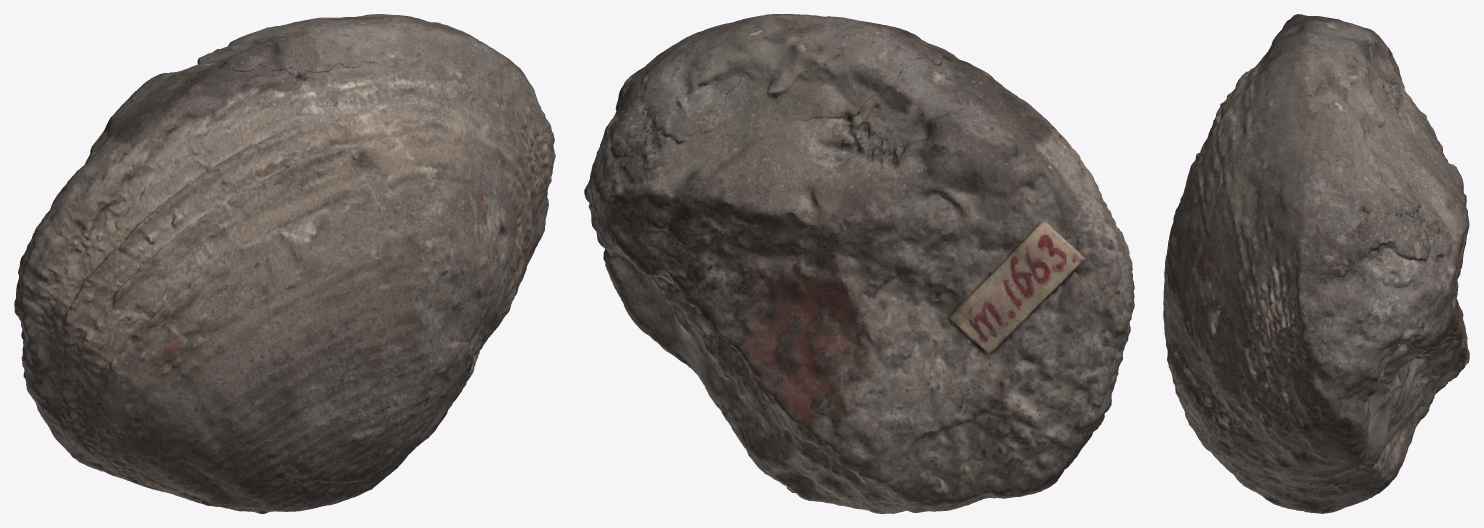
The model's file is EWS0004006.glb.
3 views of the same model, side by side, from view 1: azimuth 30°, elevation 25°; view 2: azimuth 150°, elevation 25°; view 3: azimuth 270°, elevation 25° (orthographic). The views are drawn at different scales.
Visible parts, largest first — view 1: input; view 2: input; view 3: input.
Part boxes in pixels (x1,y1,x2,y2): input: (14,14,555,513); input: (584,14,1134,513); input: (1163,14,1469,513).
Size of the model in its own units: 0.0462 by 0.0393 by 0.0242.
Materials: 1 (1 with a texture image).
